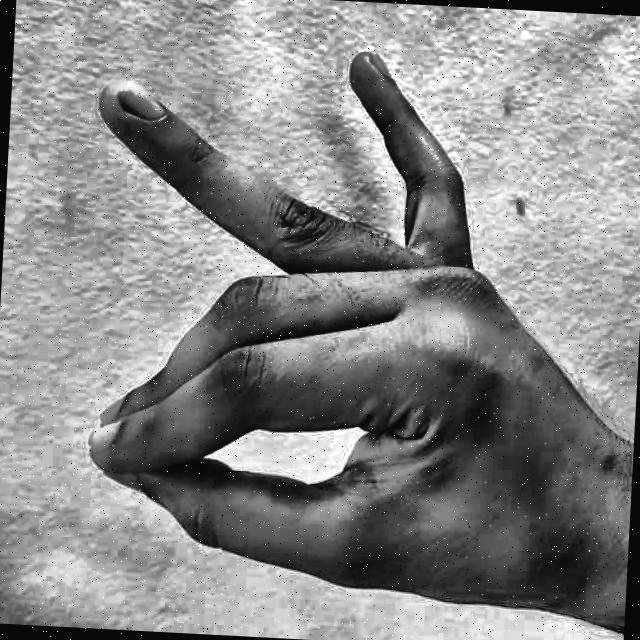Na: (49, 9, 621, 640)
